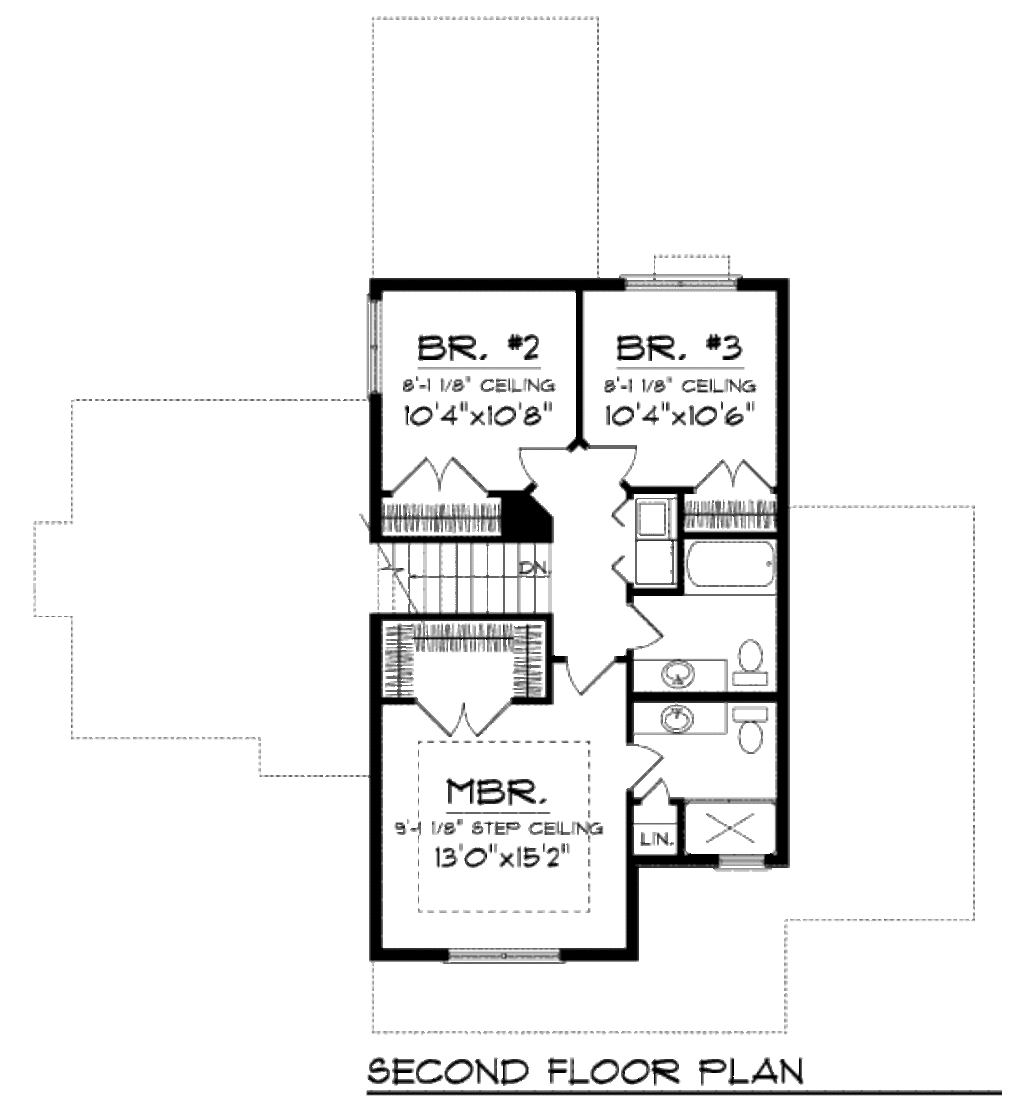door: (381, 443, 495, 503), (407, 688, 513, 751), (576, 427, 642, 484), (514, 430, 567, 493), (688, 455, 768, 496), (614, 598, 668, 657), (552, 648, 619, 695), (618, 741, 661, 791), (631, 774, 676, 814)
large_sink: (725, 696, 781, 758), (721, 638, 780, 696)
small_sink: (630, 695, 733, 739), (619, 655, 723, 698)
tub: (681, 543, 783, 591)
window: (618, 265, 756, 305), (437, 934, 573, 969), (359, 305, 399, 398), (711, 850, 771, 876)
